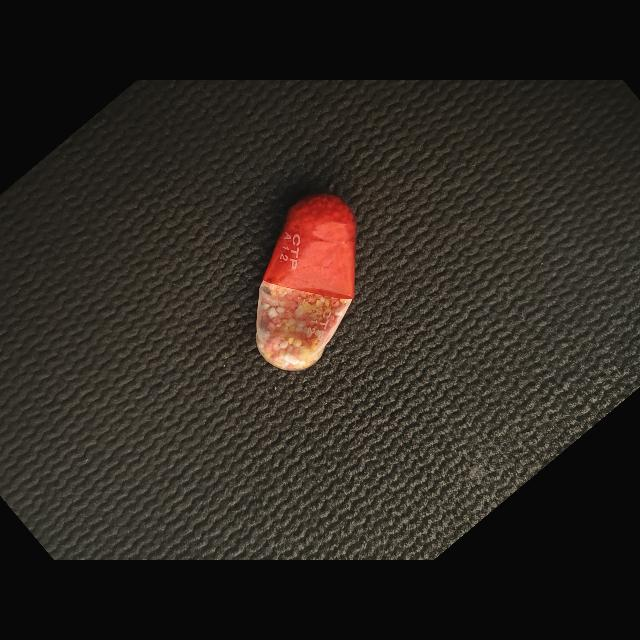Defective Capsule: (256, 193, 356, 371)
